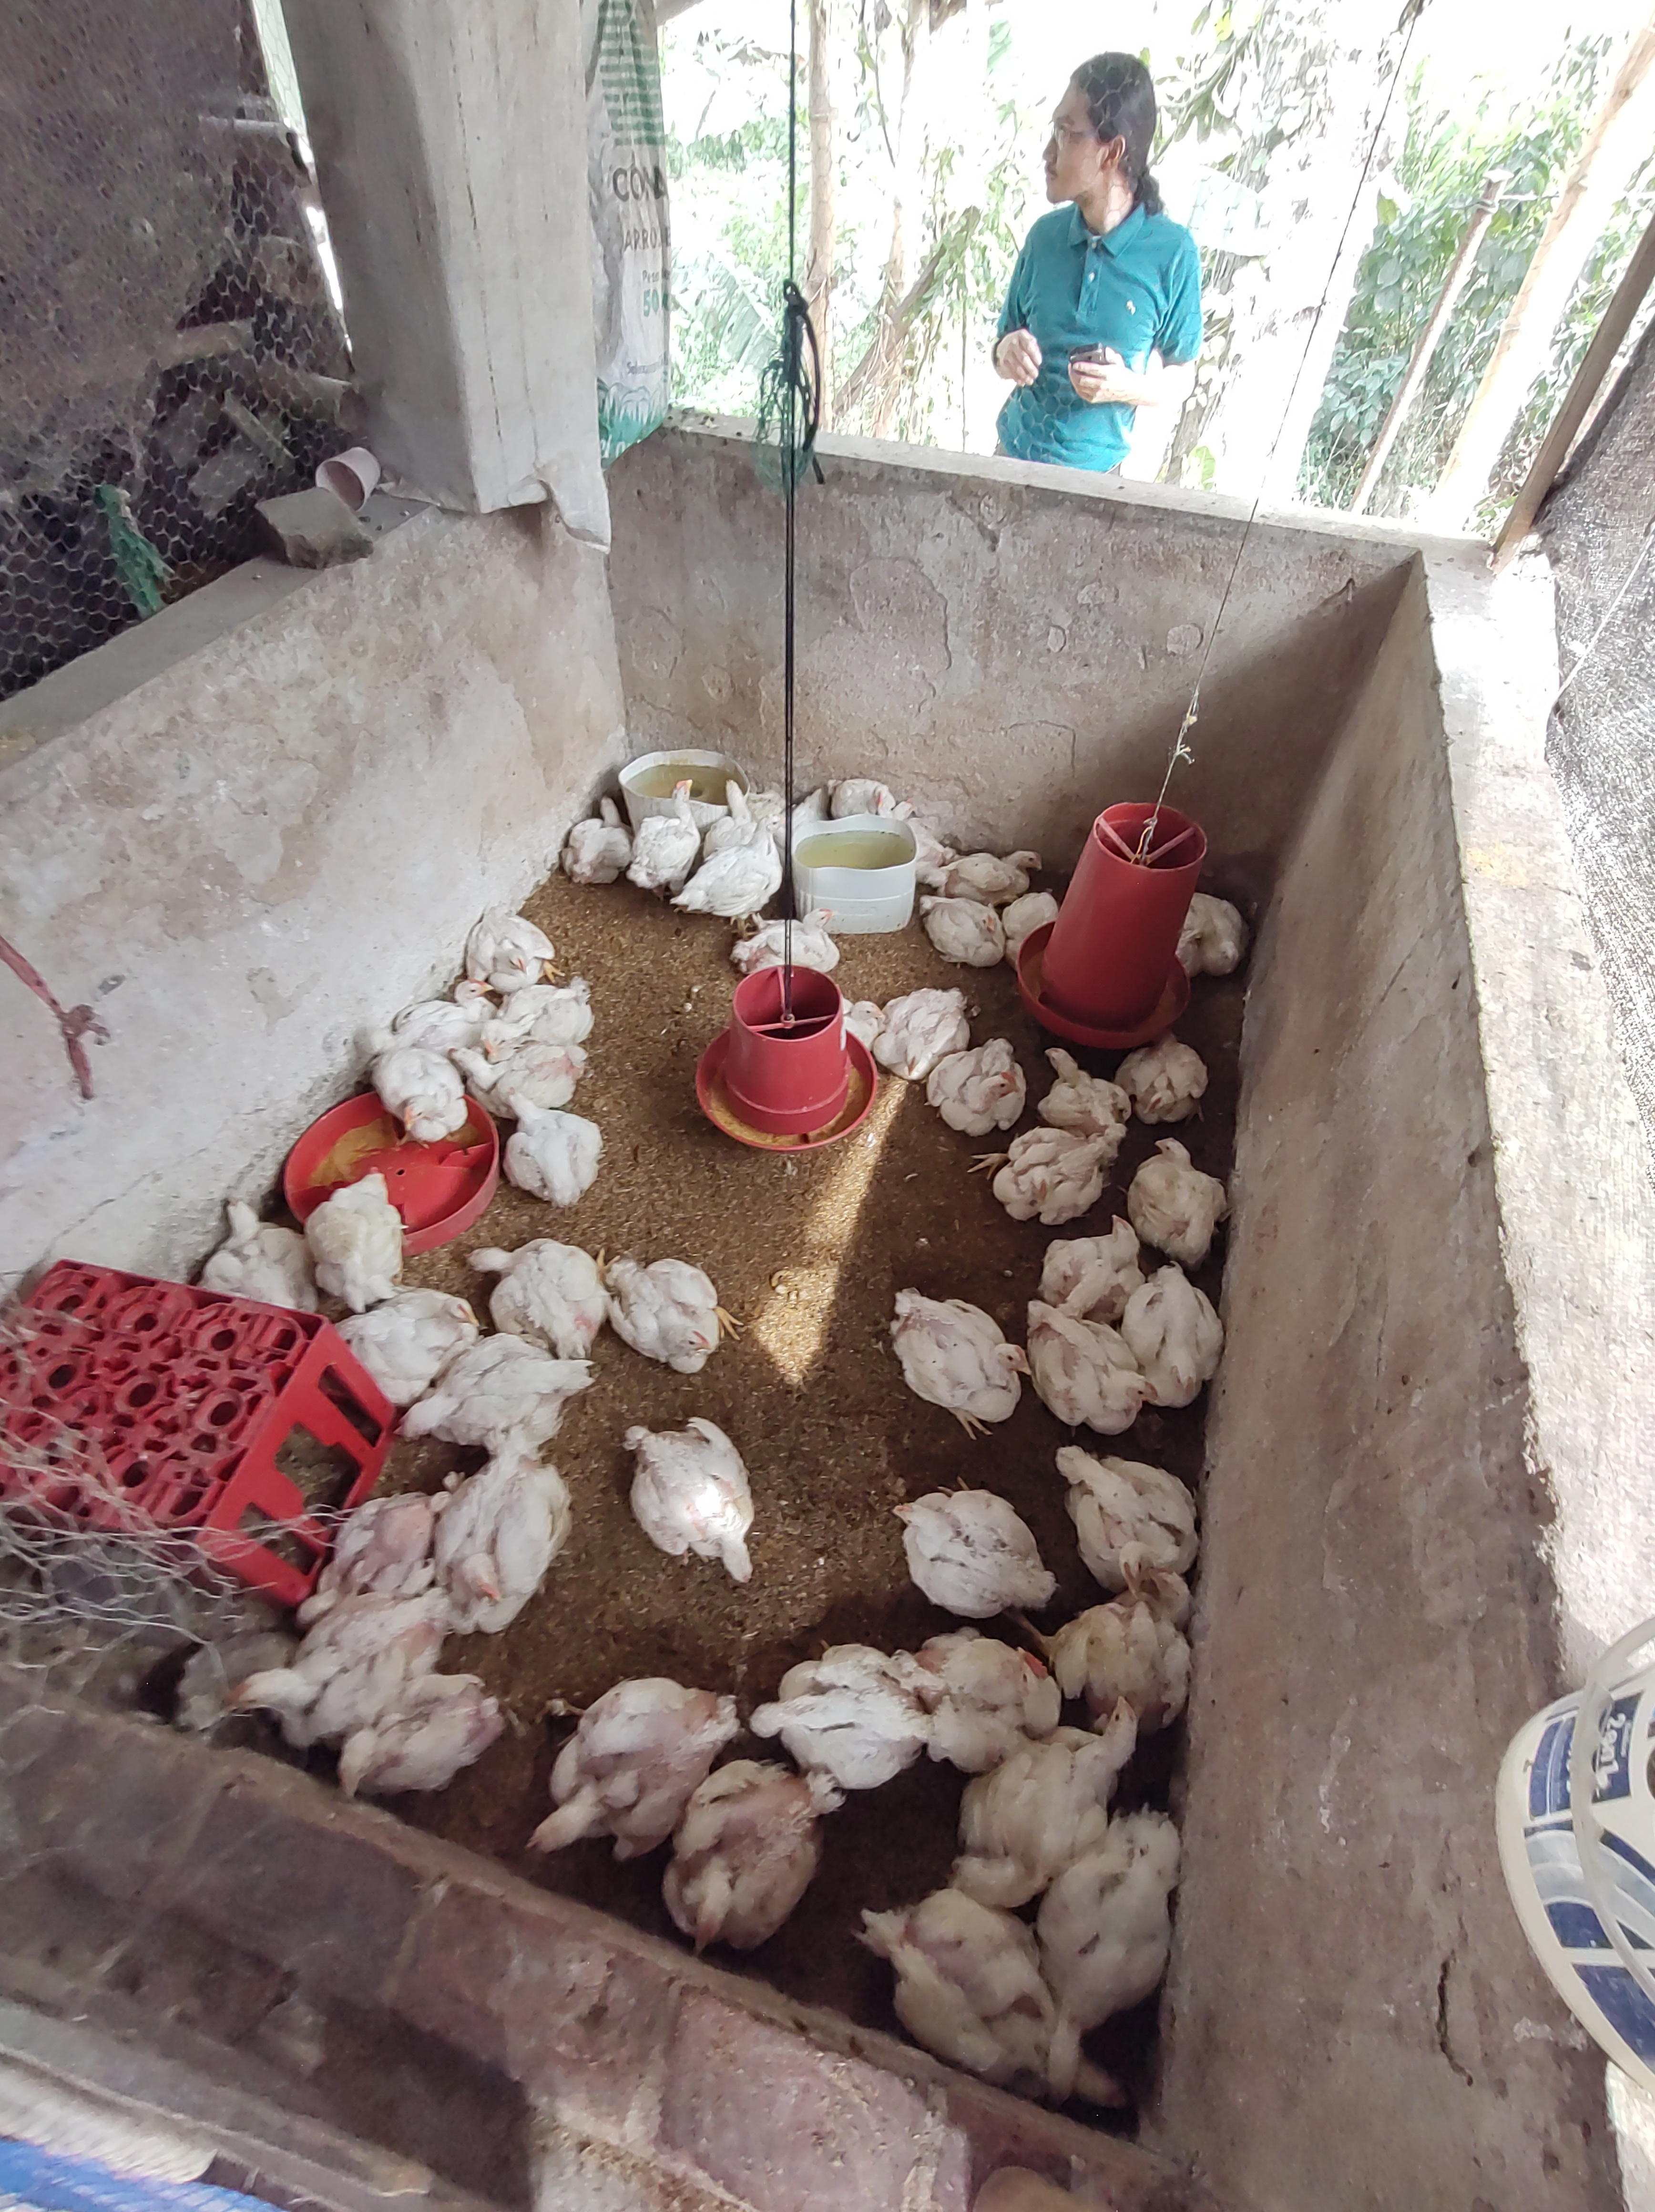Pollos: (953, 1908, 1121, 2062), (746, 1656, 932, 1772), (622, 1417, 756, 1574), (892, 1487, 1041, 1600), (892, 1289, 1031, 1409), (673, 1802, 788, 1946), (520, 1737, 652, 1856), (436, 1478, 535, 1622), (464, 1242, 605, 1341), (614, 1259, 732, 1376), (224, 1628, 342, 1736), (1085, 1574, 1193, 1690), (311, 1162, 395, 1306), (1067, 1447, 1153, 1584), (318, 1697, 431, 1800), (961, 1636, 1067, 1739), (511, 1090, 612, 1196), (395, 1369, 542, 1438), (1069, 1690, 1146, 1803), (708, 814, 791, 916), (468, 1005, 588, 1076), (374, 1297, 489, 1370), (1057, 1325, 1153, 1412), (876, 986, 963, 1078), (629, 774, 699, 887), (1050, 1216, 1144, 1299), (728, 899, 843, 967), (1151, 1263, 1206, 1395), (210, 1198, 294, 1282), (374, 1057, 461, 1136), (1001, 1139, 1088, 1216), (1135, 1038, 1212, 1125), (918, 894, 1007, 969), (1137, 1132, 1212, 1214), (946, 1047, 1017, 1127), (292, 1555, 363, 1633), (565, 791, 628, 880), (937, 845, 1048, 890), (1038, 1042, 1104, 1113), (1180, 897, 1241, 974), (480, 922, 549, 977), (412, 976, 490, 1023), (711, 777, 760, 849), (827, 779, 897, 817), (845, 991, 888, 1033)
